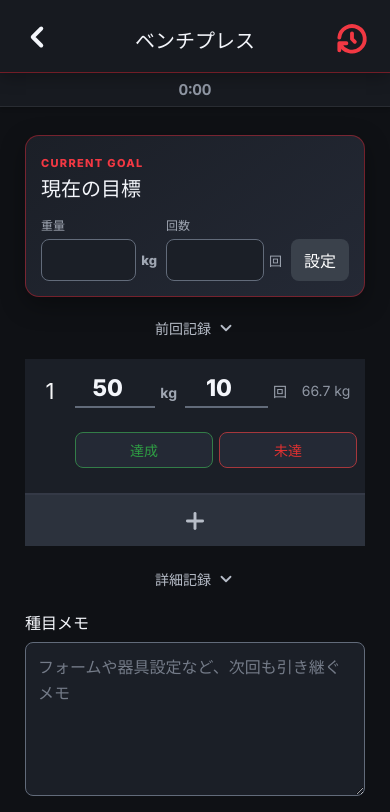
it: DetailScreen set inputs › 前回記録を開くと最新の前回セットを表で表示する
Click the button "前回記録".
click(195, 328)  # box 25,313 -> 365,343
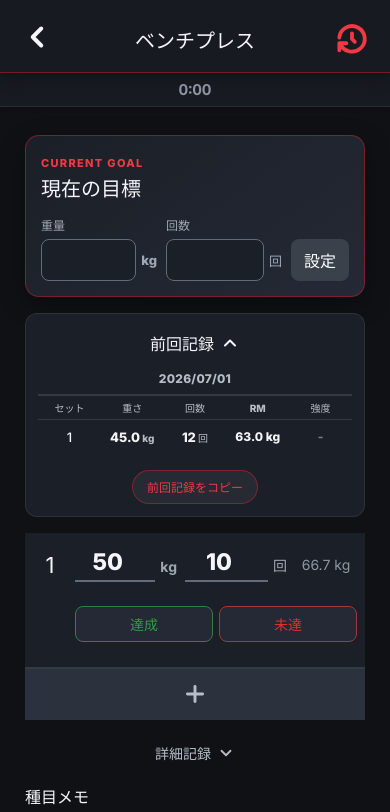
Expected: the text "2026/07/01" is shown, 159,372 -> 231,384
